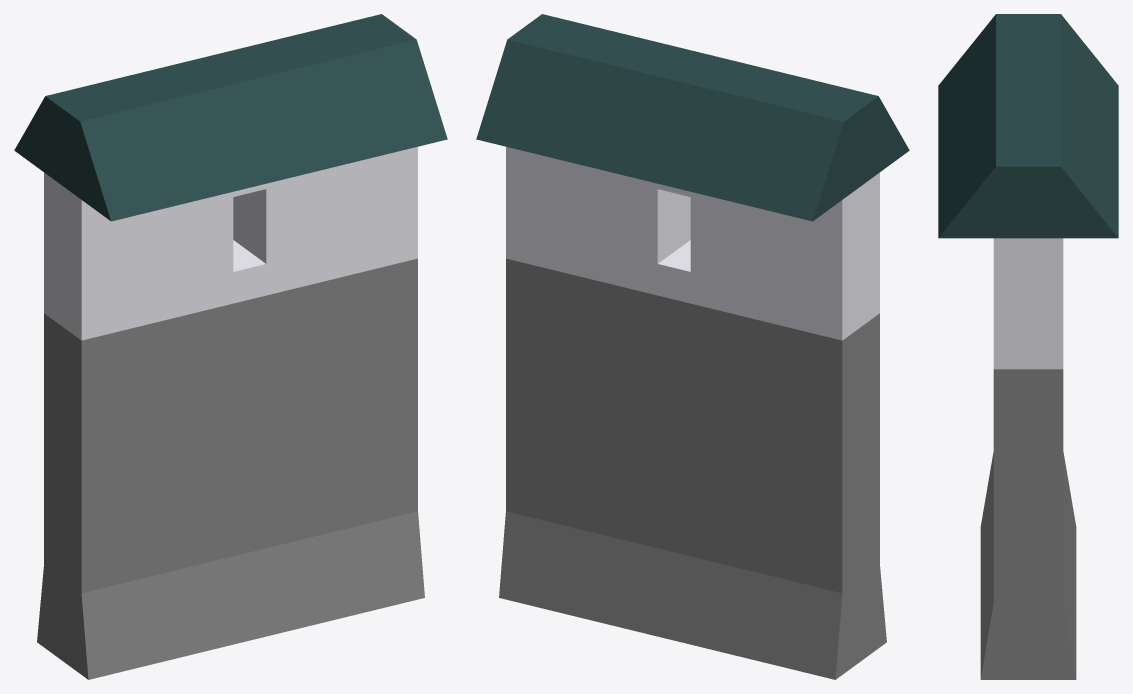
Rendered from Asian_Prop_Building_Fence_Wall_High_Small_Embrasure_02.FBX.
The picture shows the model from 3 angles, left to right: view 1: azimuth 30°, elevation 25°; view 2: azimuth 150°, elevation 25°; view 3: azimuth 270°, elevation 25°; orthographic projection. The views are drawn at different scales.
Parts seen in each view (by area): view 1: Asian_Prop_Building_Fence_Wall_High_Small_Embrasure_02; view 2: Asian_Prop_Building_Fence_Wall_High_Small_Embrasure_02; view 3: Asian_Prop_Building_Fence_Wall_High_Small_Embrasure_02.
Part boxes in pixels (x1,y1,x2,y2): Asian_Prop_Building_Fence_Wall_High_Small_Embrasure_02: (14, 14, 447, 679); Asian_Prop_Building_Fence_Wall_High_Small_Embrasure_02: (476, 14, 909, 679); Asian_Prop_Building_Fence_Wall_High_Small_Embrasure_02: (938, 14, 1118, 679).
Size of the model in its own units: 2584 by 4051 by 1290.
